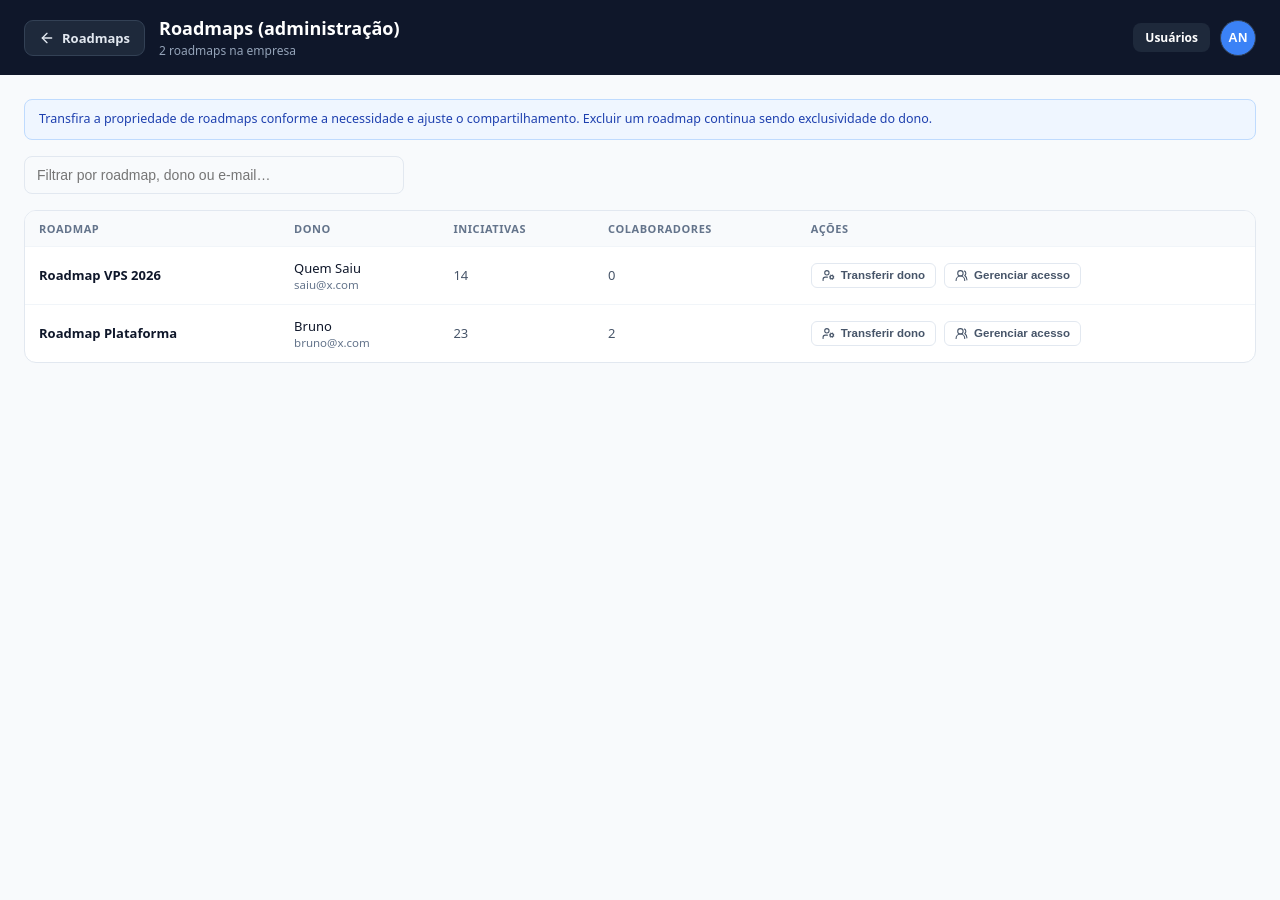
Test: AdminRoadmaps › transfere o dono sem manter o anterior (caso de quem saiu da empresa)
Expected: the text "Roadmap VPS 2026" is shown, 39,266 -> 161,284
Click the button "Transferir dono" in the row of "Roadmap VPS 2026" at (873, 275), box 811,263 -> 936,288
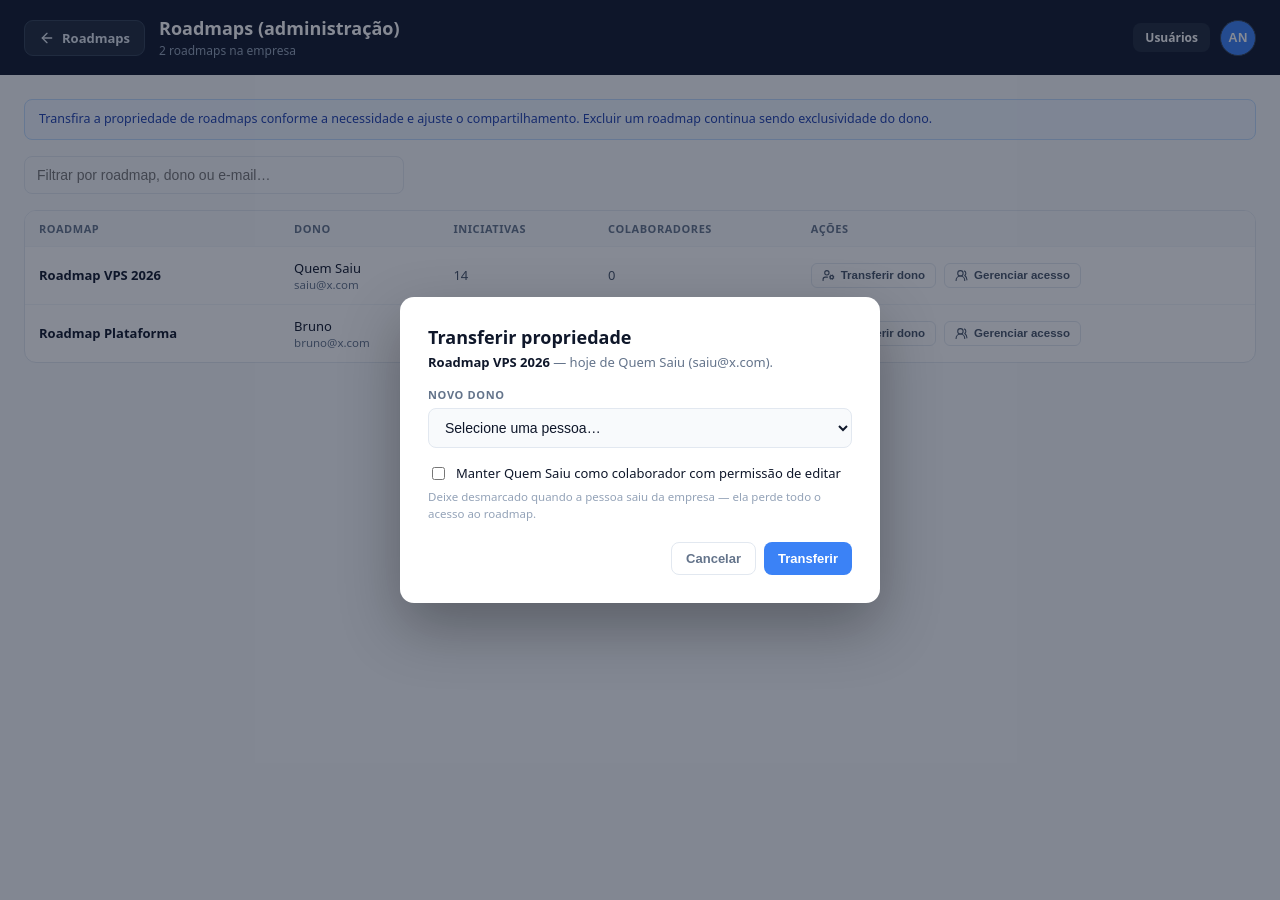
Select "Bruno — bruno@x.com" in the dropdown labelled "Novo dono" at (640, 428), box 428,408 -> 852,448
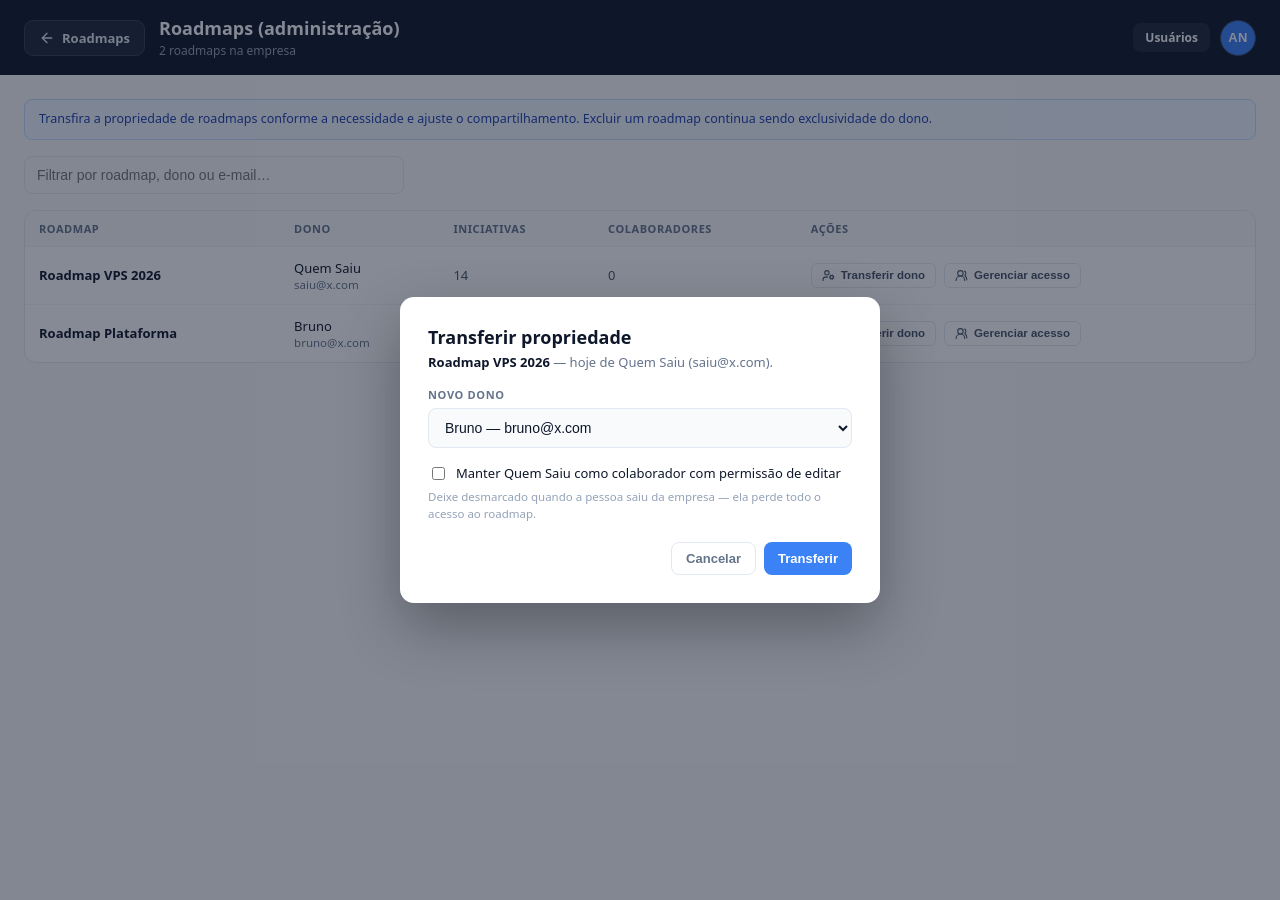
Click the button "Transferir" at (808, 559), box 764,542 -> 852,575
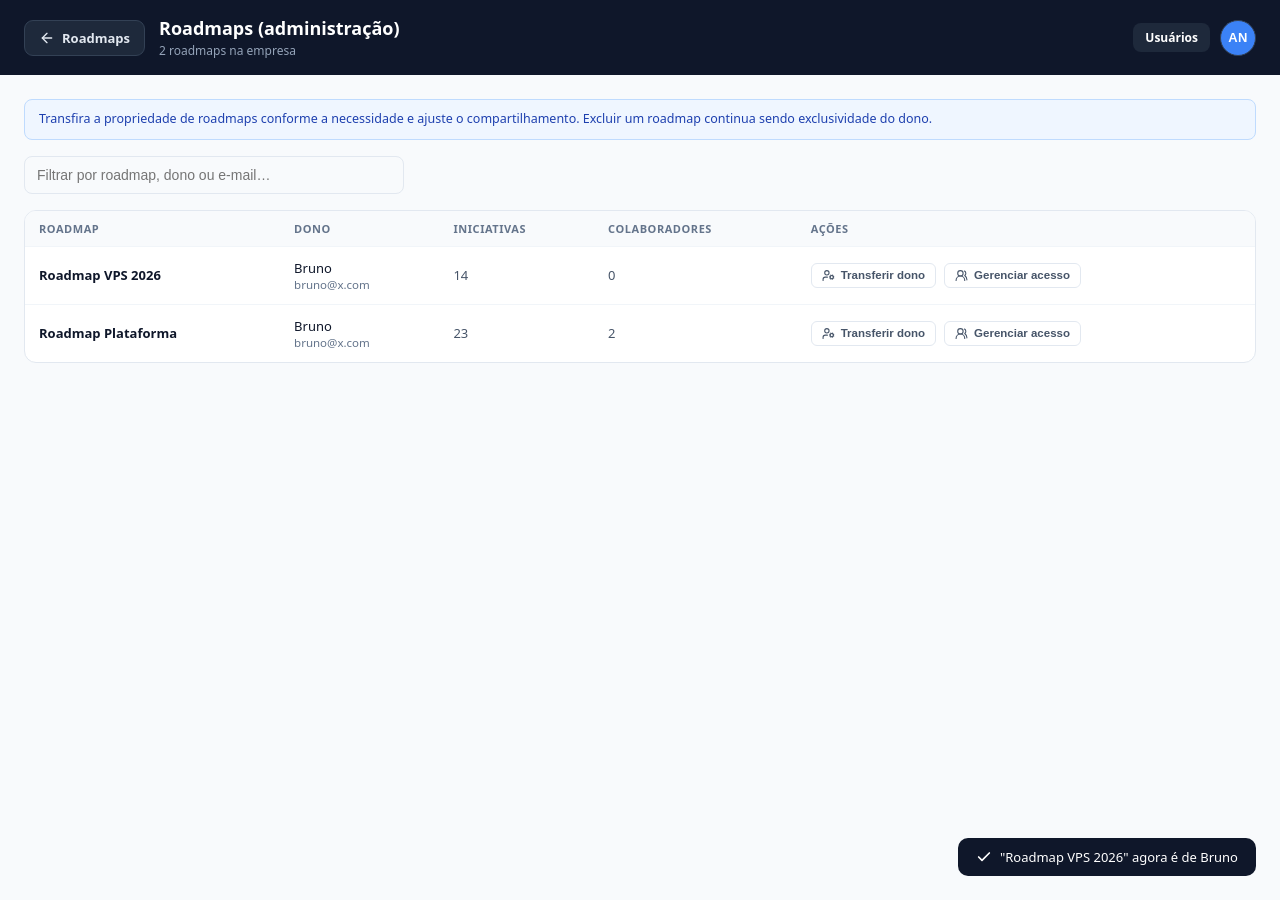
Expected: the text "bruno@x.com" next to "14" is shown, 294,277 -> 370,292
